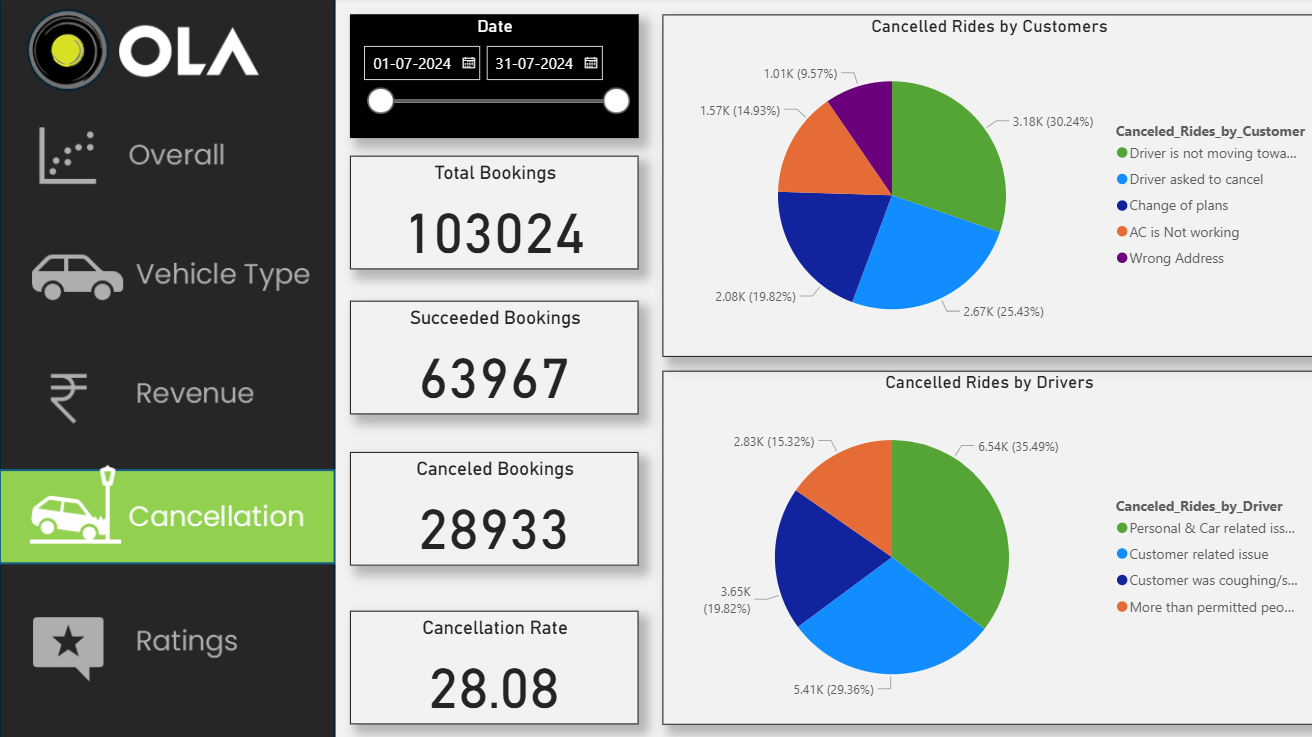

Layout of this report page (visuals, bound fields, positions):
{"tool":"powerbi","page":{"name":"Cancellation","canvas":[1280,720],"ordinal":3},"visuals":[{"type":"actionButton","box":[0,576.7,324.5,91.7],"z":0},{"type":"pieChart","title":"Cancelled Rides by Customers","fields":{"Category":["July.Canceled_Rides_by_Customer"],"Y":["CountNonNull(July.Canceled_Rides_by_Driver)"]},"box":[639.4,16.9,629.8,330.6],"z":1000},{"type":"pieChart","title":"Cancelled Rides by Drivers","fields":{"Category":["July.Canceled_Rides_by_Driver"],"Y":["CountNonNull(July.Canceled_Rides_by_Customer)"]},"box":[639.4,360.7,629.8,341.4],"z":2000},{"type":"slicer","title":"Date","fields":{"Values":["July.Date"]},"box":[337.8,16.9,278.7,119.4],"z":3000},{"type":"card","title":"Total Bookings","fields":{"Values":["CountNonNull(July.Booking_ID)"]},"box":[337.8,153.2,278.7,109.8],"z":4000},{"type":"card","title":"Succeeded Bookings","fields":{"Values":["CountNonNull(July.Booking_ID)"]},"box":[337.8,293.2,278.7,109.8],"z":5000},{"type":"card","title":"Canceled Bookings","fields":{"Values":["CountNonNull(July.Booking_ID)"]},"box":[337.8,439.1,278.7,109.8],"z":6000},{"type":"card","title":"Cancellation Rate","fields":{"Values":["July.CanceledPercentage"]},"box":[337.8,592.4,278.7,109.8],"z":7000}]}

Visuals, with their boxes in screenshot pixels (x1, y1, x2, y2), scaled from the page's 1280x720 canvas onto the 1312x737 screenshot:
actionButton: rect(0, 590, 333, 684)
"Cancelled Rides by Customers" pieChart: rect(655, 17, 1301, 356)
"Cancelled Rides by Drivers" pieChart: rect(655, 369, 1301, 719)
"Date" slicer: rect(346, 17, 632, 140)
"Total Bookings" card: rect(346, 157, 632, 269)
"Succeeded Bookings" card: rect(346, 300, 632, 413)
"Canceled Bookings" card: rect(346, 449, 632, 562)
"Cancellation Rate" card: rect(346, 606, 632, 719)
